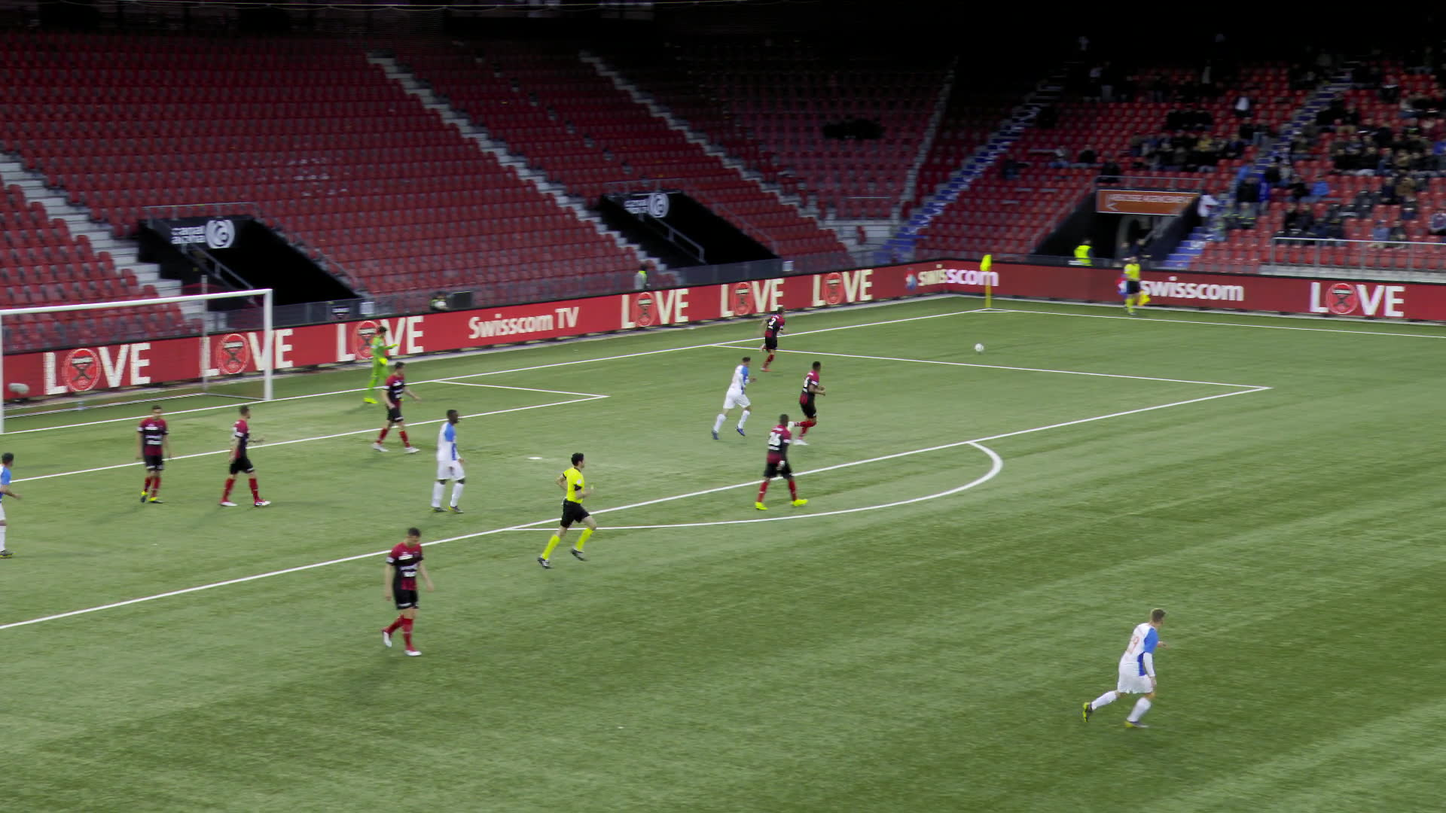ball: (978, 336, 986, 343)
player: (1091, 607, 1171, 729), (388, 526, 435, 655), (220, 406, 273, 506), (429, 410, 476, 514), (760, 413, 805, 510), (377, 361, 424, 453), (138, 406, 178, 504), (784, 358, 829, 445), (710, 356, 756, 439), (368, 326, 403, 403), (0, 452, 23, 558), (756, 306, 788, 372)
referee: (531, 452, 599, 568), (1128, 255, 1155, 315)
